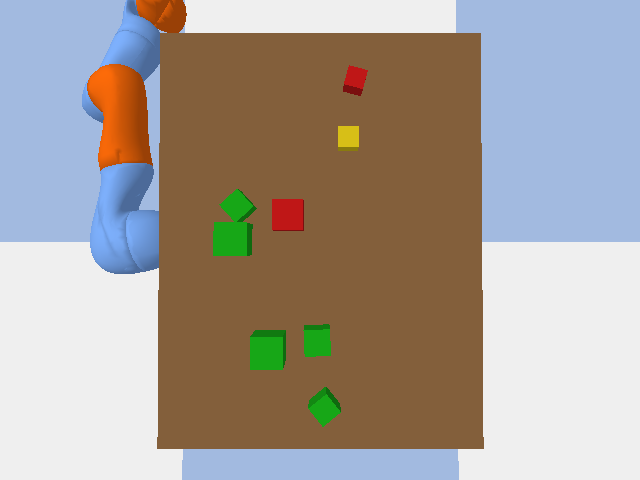green_obj: (250, 330, 285, 369), (213, 222, 252, 255), (308, 387, 340, 426), (219, 189, 256, 221), (303, 324, 330, 356)
red_obj: (272, 199, 303, 230), (343, 65, 367, 95)
yellow_obj: (338, 126, 358, 150)
